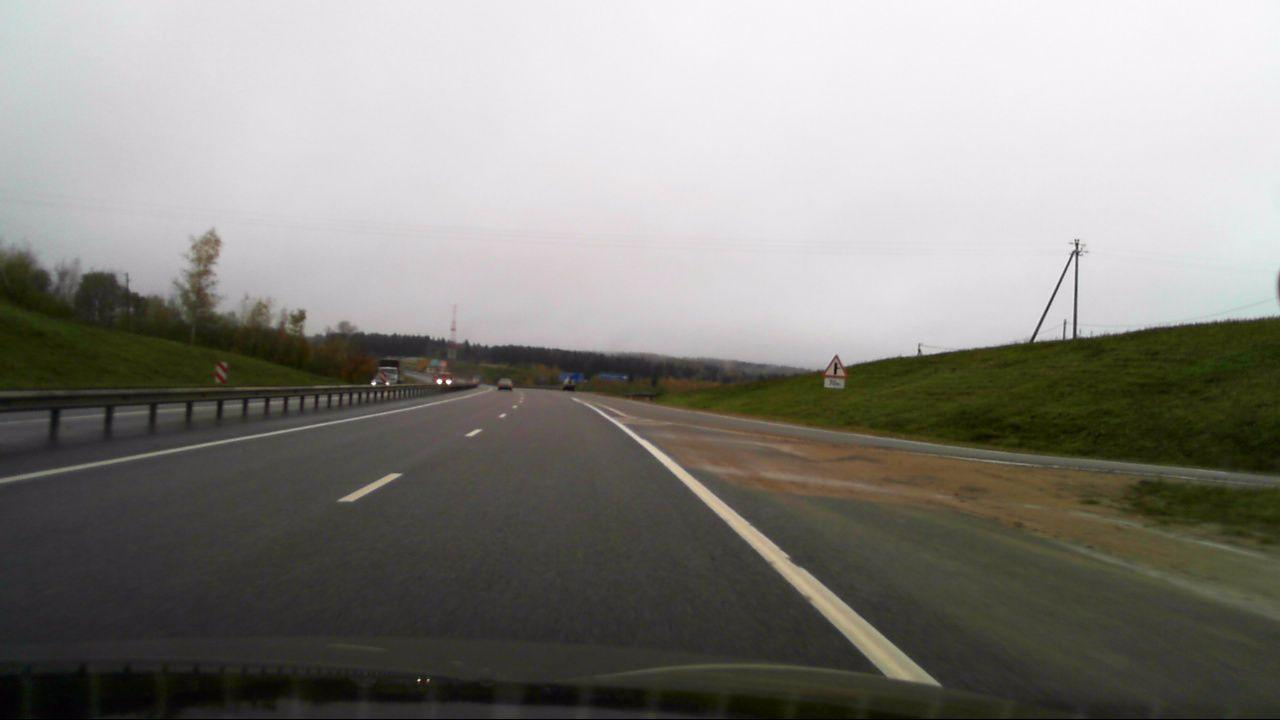2_3_2: (822, 354, 847, 376)
8_1_1: (824, 378, 846, 389)
